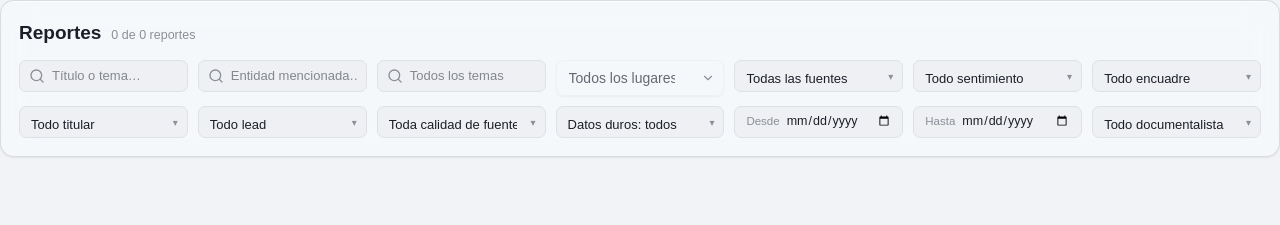
Test: FilterBar — filtro por lugar › encuentra un municipio por su alias
The width and height of the screenshot is (1280, 225).
Type "Navarrete" into the dropdown labelled "Todos los lugares" at {"x": 640, "y": 78}, box [556, 60, 724, 96]
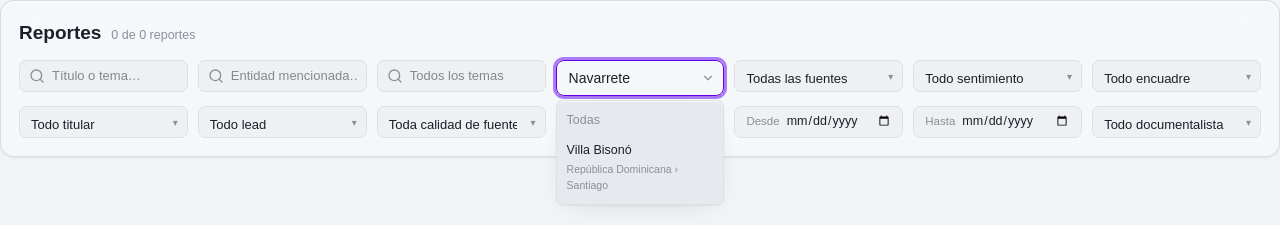
Result: the text "Villa Bisonó" is shown at [567, 141, 632, 160]
